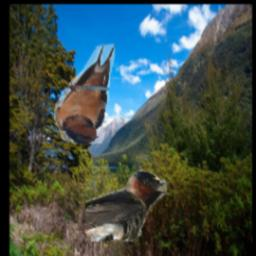Swallow: (54, 44, 115, 144), (85, 171, 169, 242)
